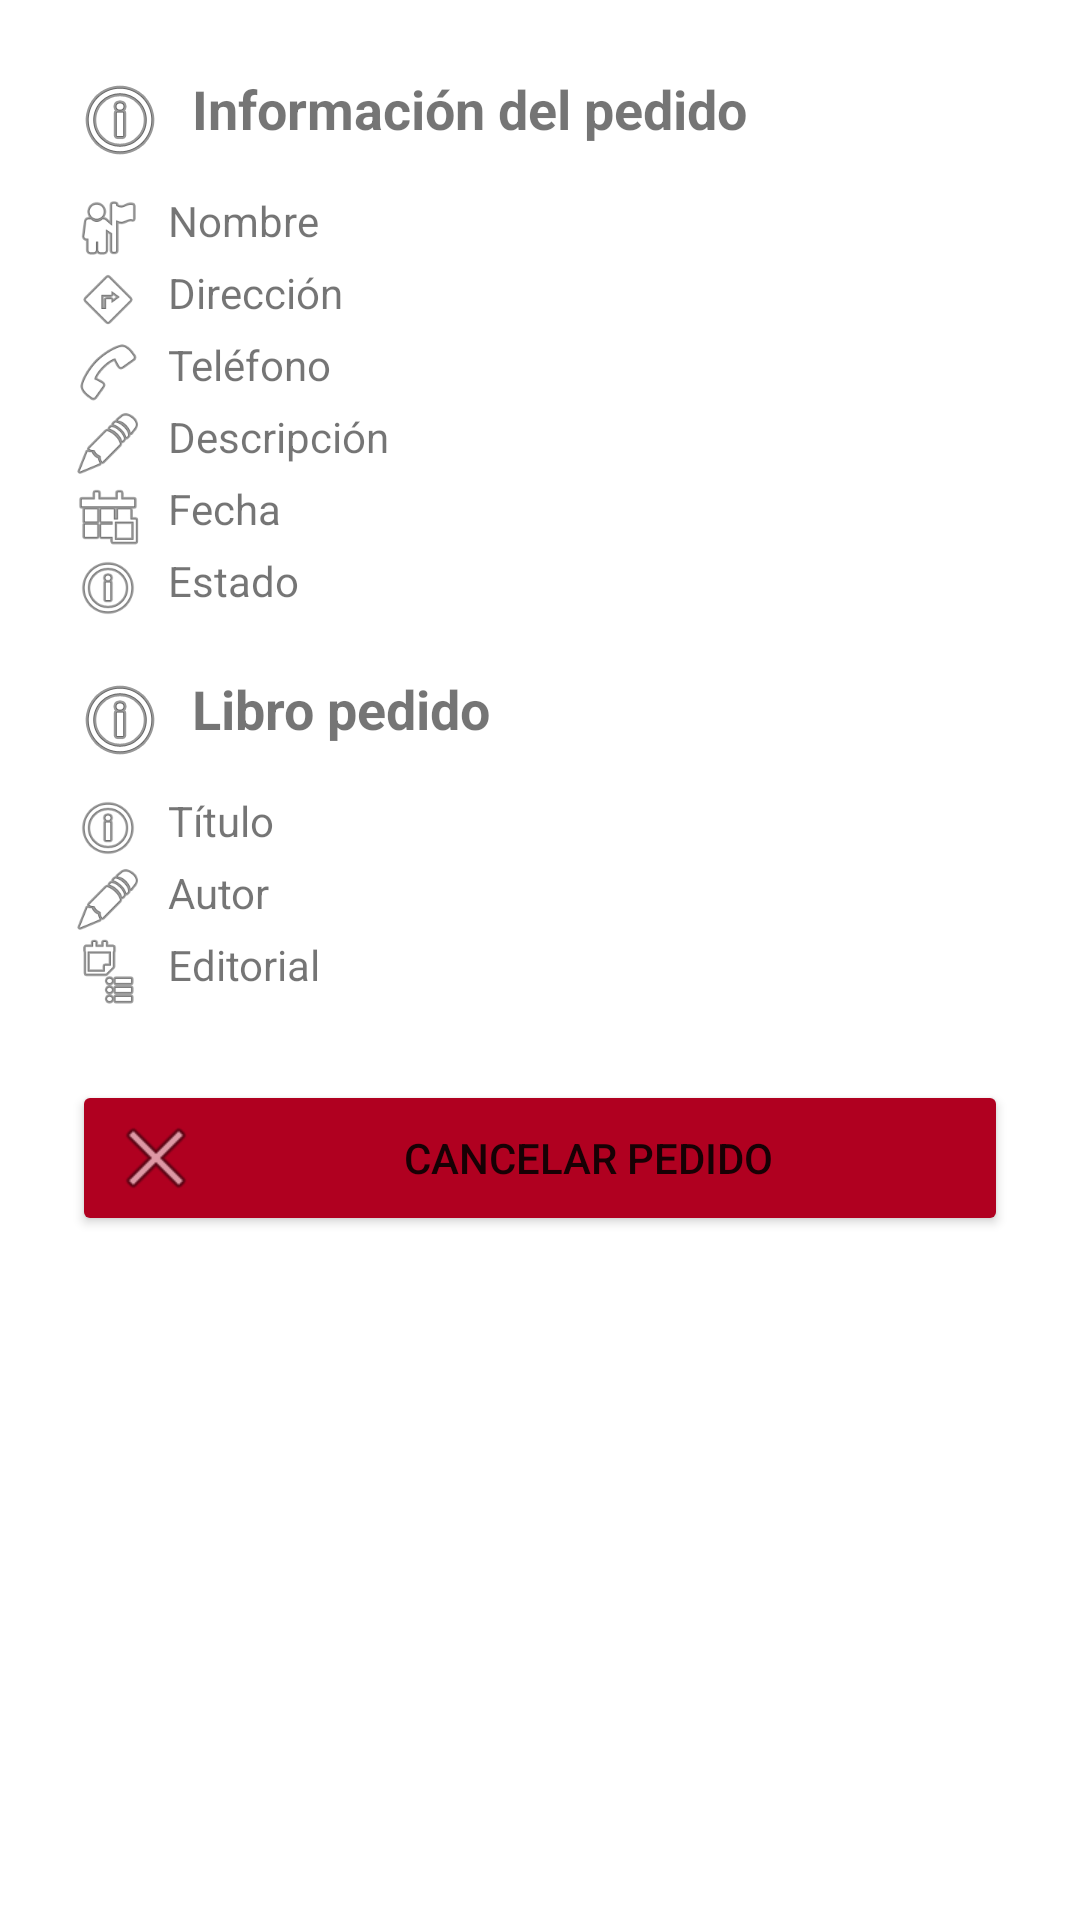

Point at icon controls on the screen. Image size 1080w x 1920h, points as (x,y).
agenda: (108,972)
call: (108,372)
directions: (108,299)
info details: (108,588), (108,828)
myplaces: (109,228)
today: (108,517)
